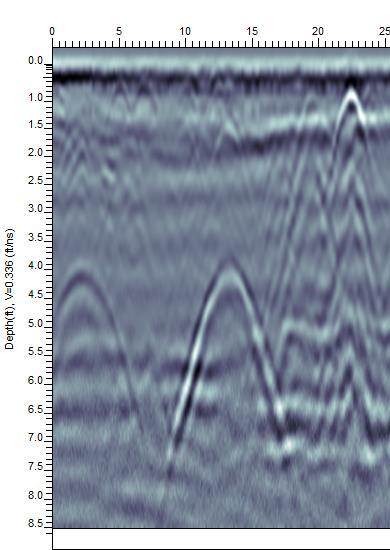hyperbola: (171, 251, 289, 442), (55, 259, 141, 441), (330, 87, 371, 162)
